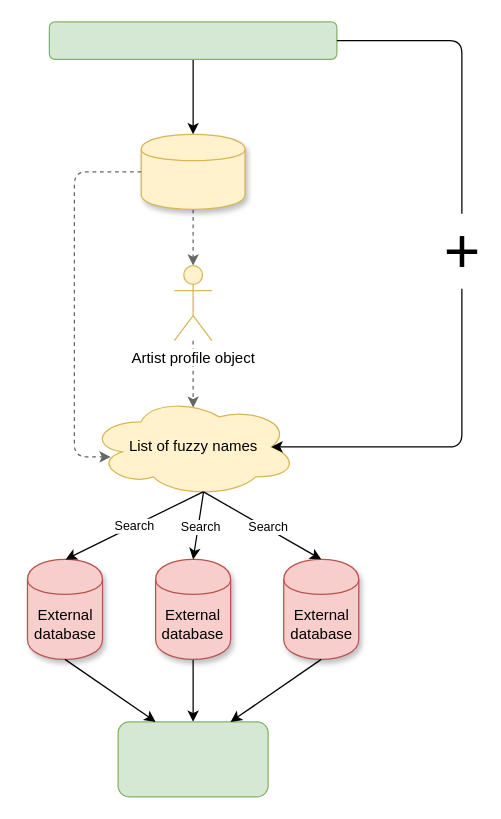
Some shapes in this 501 by 819 pixel diagram are drawn without their labels. The centre of each missing label's shape, as x and y in pixels:
"Our database" belongs at point 193,173.
"Results merged on our website" belongs at point 192,759.
"Single artist name input query" belongs at point 192,40.
